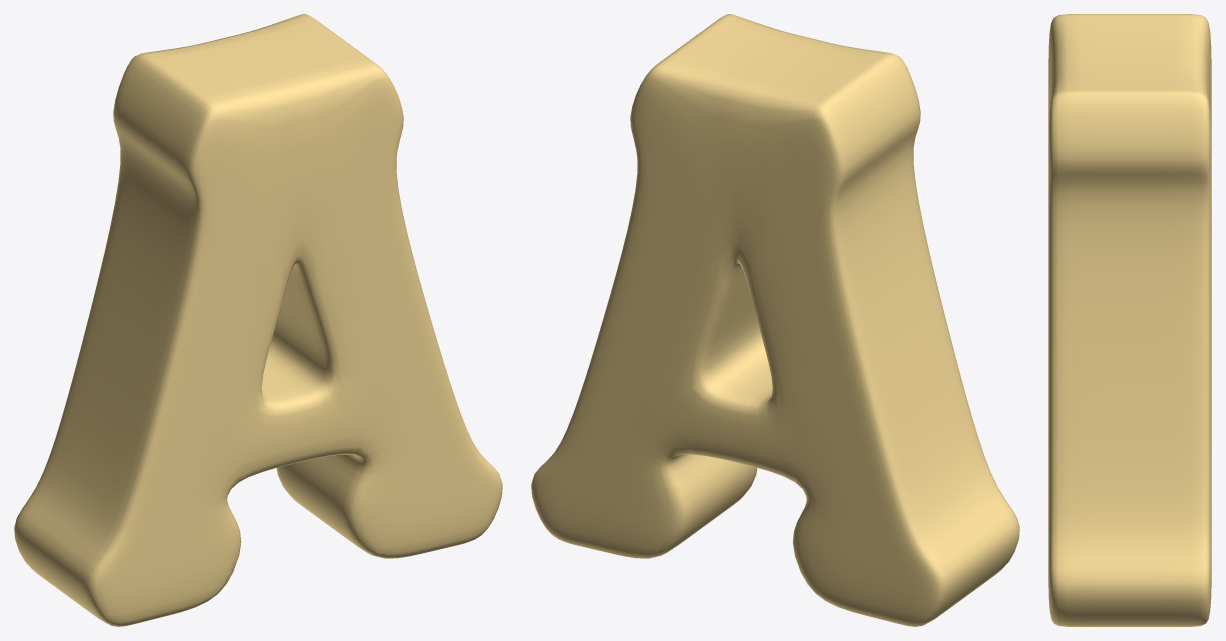
Rendered from AEmbed.gltf.
The picture shows the model from 3 angles, left to right: view 1: azimuth 30°, elevation 25°; view 2: azimuth 150°, elevation 25°; view 3: azimuth 270°, elevation 25°; orthographic projection. The views are drawn at different scales.
Visible parts, largest first — view 1: A; view 2: A; view 3: A.
Part boxes in pixels (left/top/right/bottom): A: left=14, top=14, right=502, bottom=626; A: left=531, top=14, right=1019, bottom=626; A: left=1048, top=14, right=1211, bottom=626.
Bounding box in the file's own units: 0.6001 × 0.6899 × 0.2082.
Materials: 1 (1 with a texture image).
